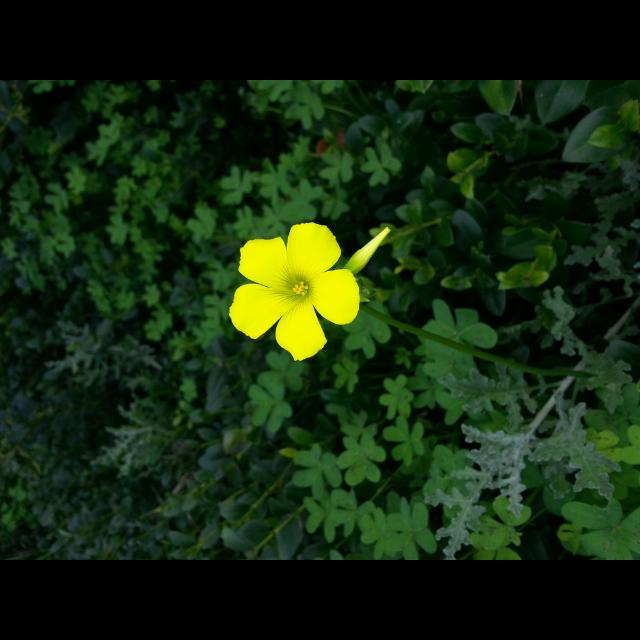Flower: (230, 221, 362, 363)
